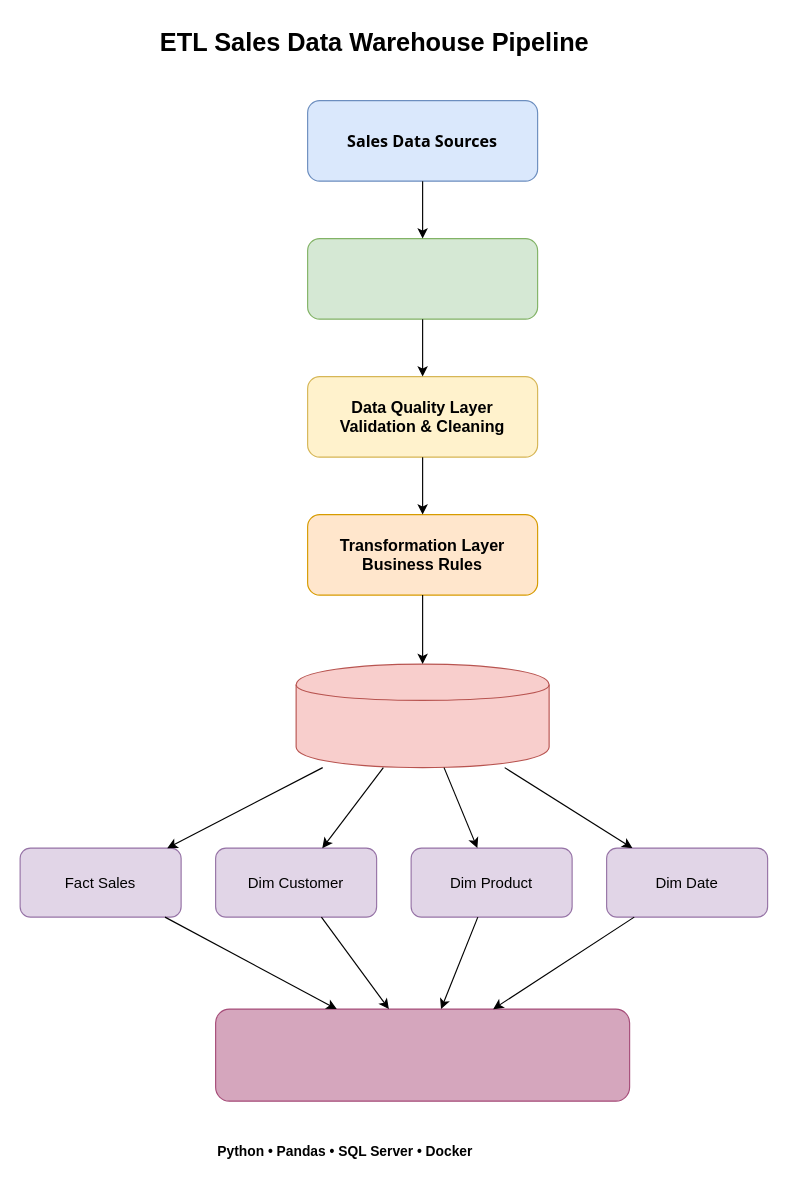
Some shapes in this 788 by 1189 pixel diagram are drawn without their labels. The shapes that lost their labels are listed below. From the top down, each one's centre as x and y in pixels, then its label:
At point 422,278: "Extraction Layer Python".
At point 422,715: "SQL Server Data Warehouse".
At point 422,1054: "Analytics & Business Intelligence".
